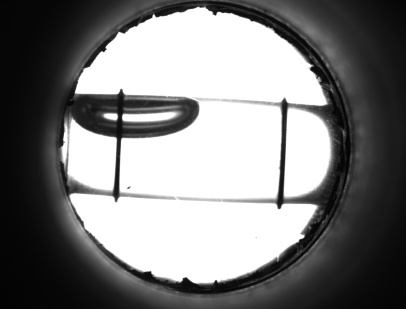line: (273, 119, 292, 189), (110, 146, 125, 182)
